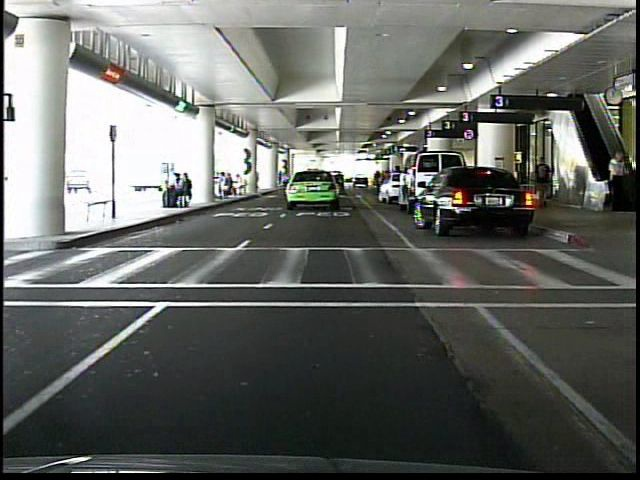person: (605, 146, 629, 210), (532, 153, 555, 212)
